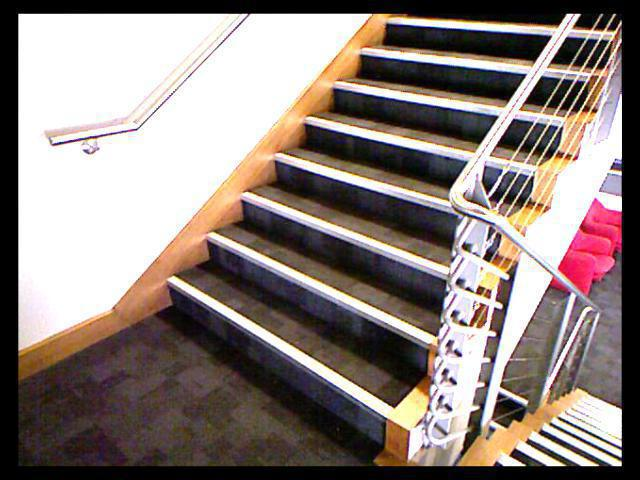Escaleras: (161, 14, 621, 445), (462, 379, 621, 466)
